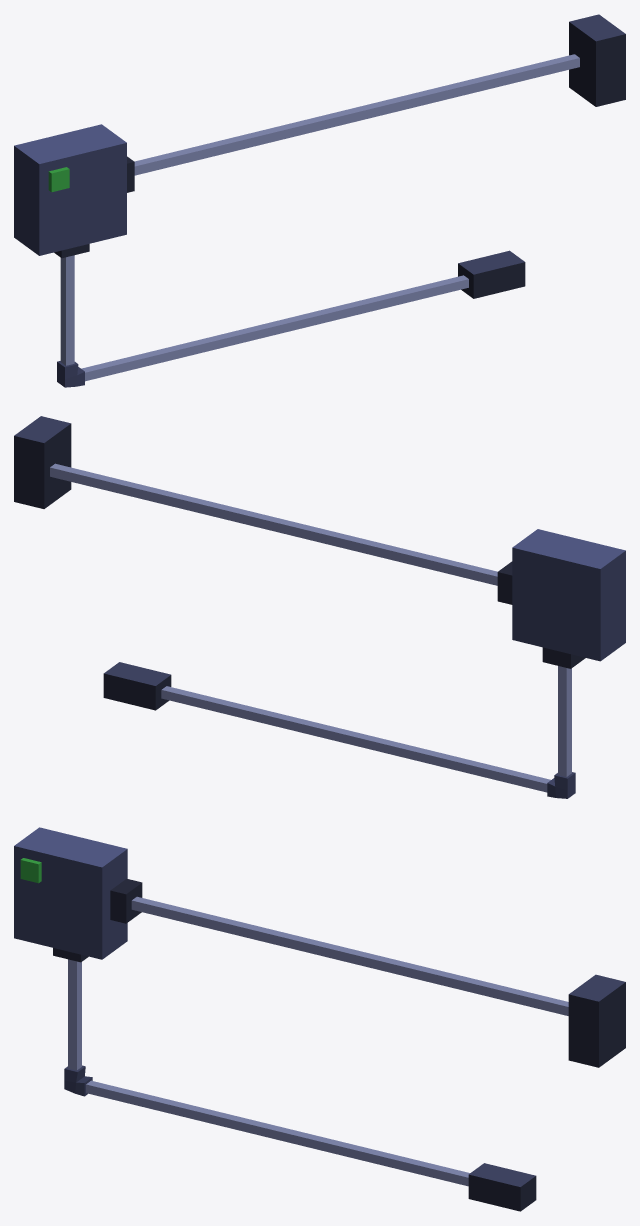
Rendered from Cables1.fbx.
3 views of the same model, one above another, from view 1: azimuth 30°, elevation 25°; view 2: azimuth 150°, elevation 25°; view 3: azimuth 330°, elevation 25° (orthographic).
Visible parts, largest first — view 1: Cube.011; view 2: Cube.011; view 3: Cube.011.
Part boxes in pixels (x1,y1,x2,y2): Cube.011: [14, 14, 625, 387]; Cube.011: [14, 416, 625, 798]; Cube.011: [14, 827, 625, 1211].
Size of the model in its own units: 399 by 163 by 33.35.
